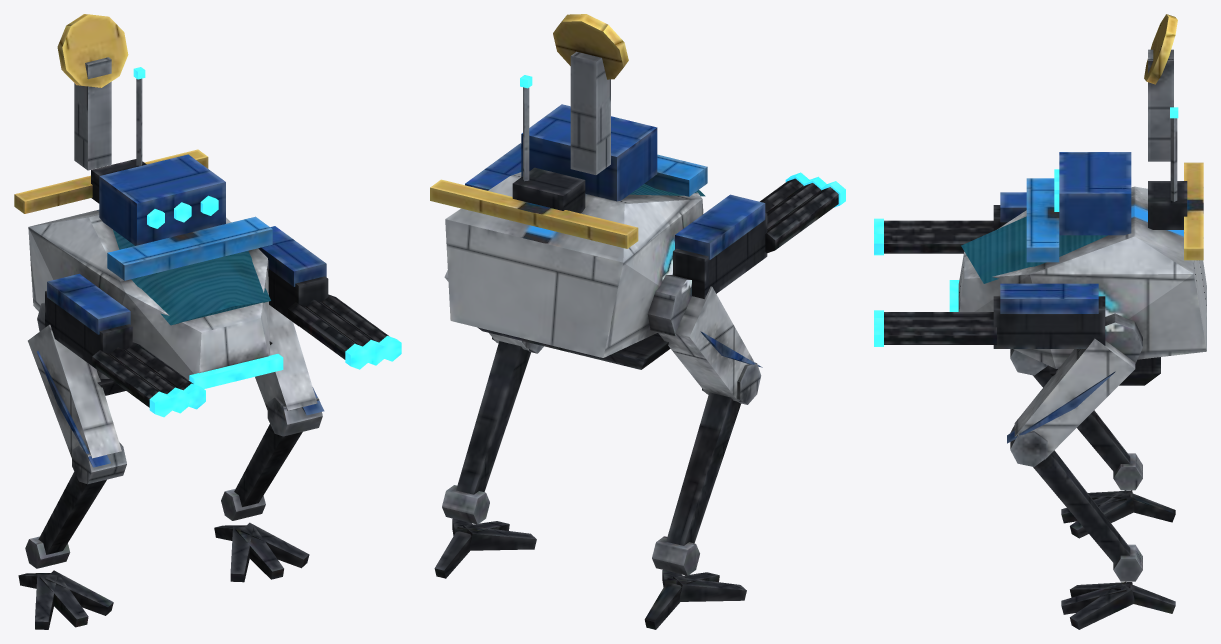
File: u_ranger3_w.glb
3 renders of one model, left to right at view 1: azimuth 30°, elevation 25°; view 2: azimuth 150°, elevation 25°; view 3: azimuth 270°, elevation 25°, orthographic. The views are drawn at different scales.
Visible parts, largest first — view 1: u_ranger3_w; view 2: u_ranger3_w; view 3: u_ranger3_w.
Boxes of the visible parts, box(x1,y1,x2,y2) form: u_ranger3_w: box(14, 14, 401, 629); u_ranger3_w: box(430, 14, 845, 629); u_ranger3_w: box(874, 14, 1206, 629).
Bounding box in the file's own units: 1.09 × 2.11 × 1.19.
1 material, 1 textured.
